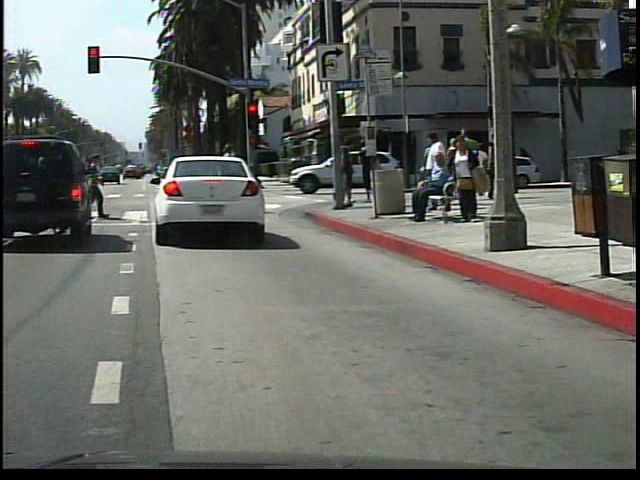person: (451, 132, 488, 231), (412, 153, 459, 225), (215, 139, 252, 218)
